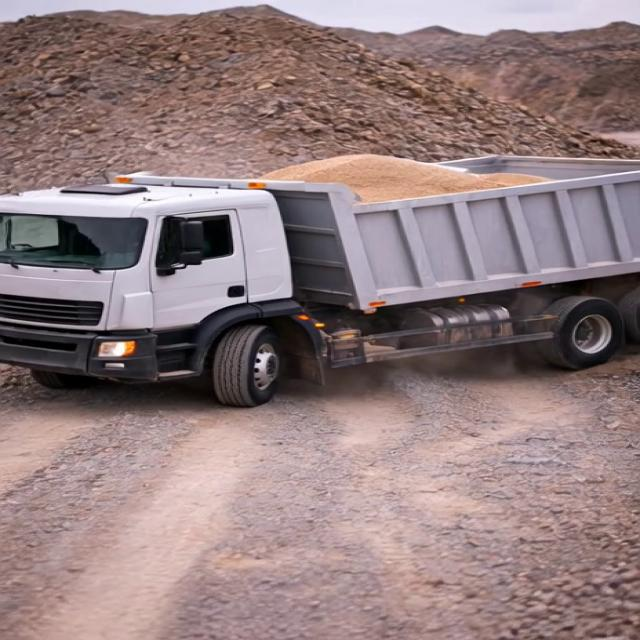Box: (111, 153, 639, 215)
Truck: (0, 141, 640, 410)
